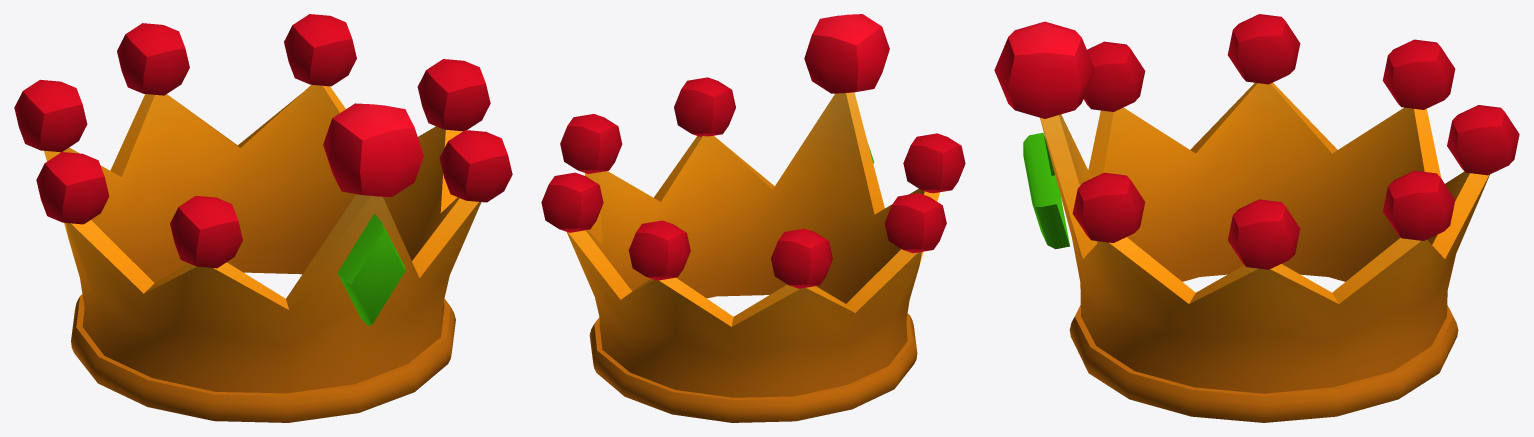
The model's file is Collectable_Crown_01.fbx.
3 views of the same model, side by side, from view 1: azimuth 30°, elevation 25°; view 2: azimuth 150°, elevation 25°; view 3: azimuth 270°, elevation 25° (orthographic). The views are drawn at different scales.
Visible parts, largest first — view 1: Collectable_Crown_01; view 2: Collectable_Crown_01; view 3: Collectable_Crown_01.
Boxes of the visible parts, <box> form: Collectable_Crown_01: <box>14,14,512,422</box>; Collectable_Crown_01: <box>541,14,965,422</box>; Collectable_Crown_01: <box>994,14,1519,422</box>.
Size of the model in its own units: 65.43 by 44.81 by 67.07.
1 material, 1 textured.
